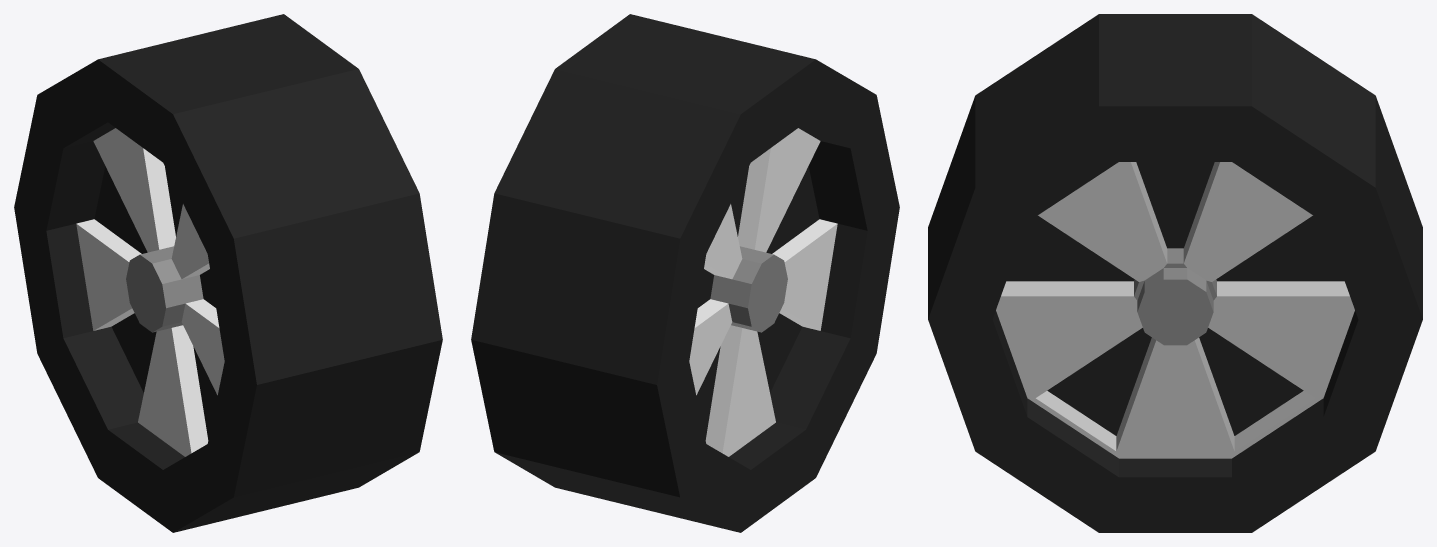
File: Car-Wheel-L.glb
The picture shows the model from 3 angles, left to right: view 1: azimuth 30°, elevation 25°; view 2: azimuth 150°, elevation 25°; view 3: azimuth 270°, elevation 25°; orthographic projection.
Visible parts, largest first — view 1: Car-01-Wheel-L; view 2: Car-01-Wheel-L; view 3: Car-01-Wheel-L.
Boxes of the visible parts, bbox=[...] form: Car-01-Wheel-L: bbox=[14, 14, 442, 532]; Car-01-Wheel-L: bbox=[471, 14, 899, 532]; Car-01-Wheel-L: bbox=[928, 14, 1422, 532].
Size of the model in its own units: 0.267 by 0.5746 by 0.6042.
Materials: 1 (1 with a texture image).
